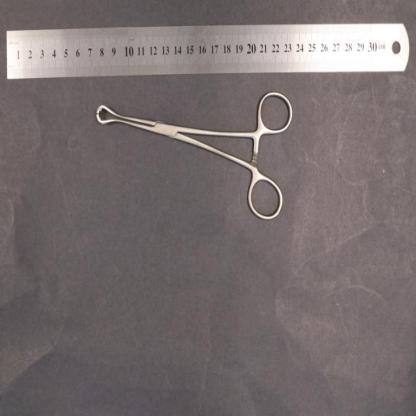Babcock Tissue Forceps: (95, 89, 293, 224)
